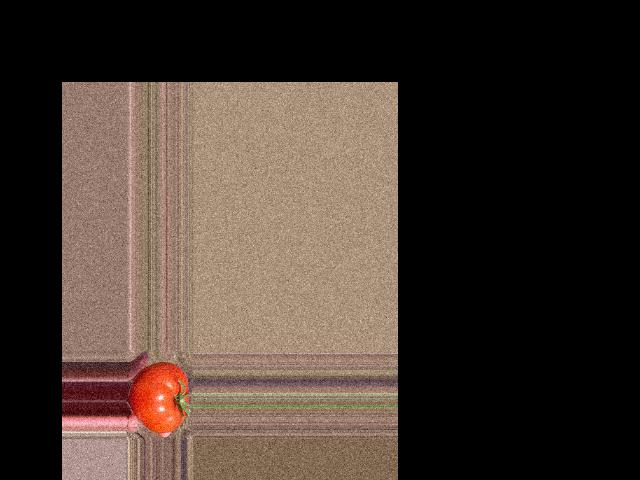tomato: (128, 363, 189, 433)
